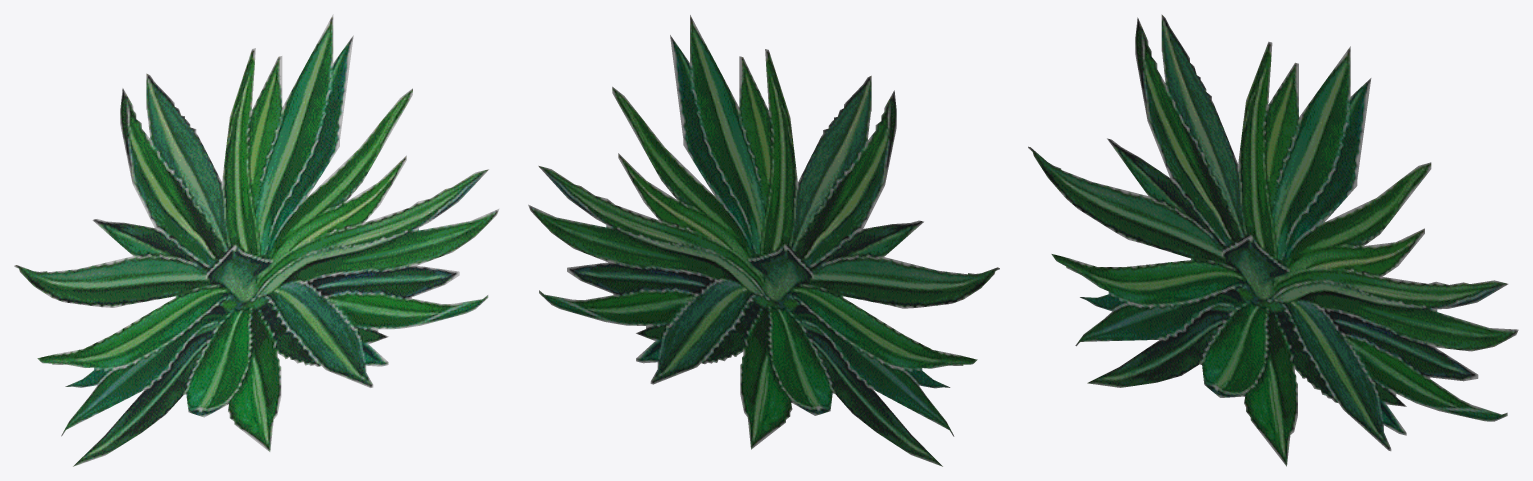
Rendered from agave.glb.
The picture shows the model from 3 angles, left to right: view 1: azimuth 30°, elevation 25°; view 2: azimuth 150°, elevation 25°; view 3: azimuth 330°, elevation 25°; orthographic projection. The views are drawn at different scales.
Parts seen in each view (by area): view 1: Component#3; view 2: Component#3; view 3: Component#3.
Boxes of the visible parts, x1,y1,x2,y2 form: Component#3: [14, 14, 499, 466]; Component#3: [528, 15, 999, 466]; Component#3: [1028, 14, 1518, 466].
Size of the model in its own units: 2.39 by 2.02 by 0.041.
1 material, 1 textured.
